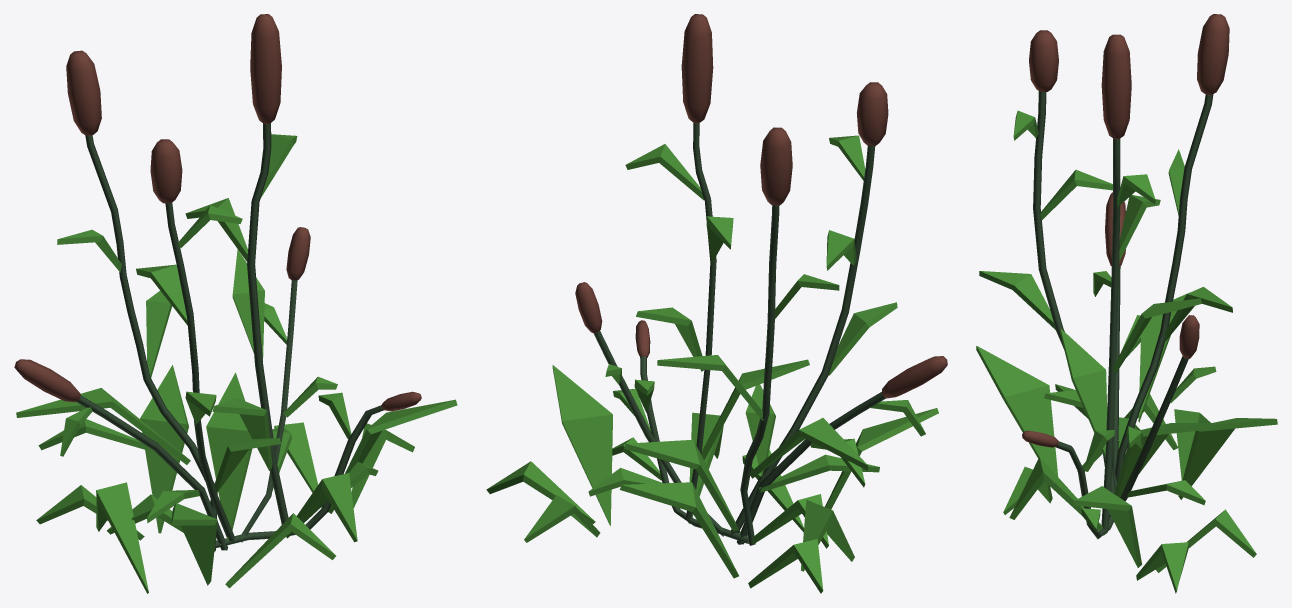
File: s_reed.fbx
3 views of the same model, side by side, from view 1: azimuth 30°, elevation 25°; view 2: azimuth 150°, elevation 25°; view 3: azimuth 270°, elevation 25° (orthographic). The views are drawn at different scales.
Parts seen in each view (by area): view 1: s_reed_greenery_full, s_reed_greenery_empty, s_reed_wire; view 2: s_reed_greenery_full, s_reed_greenery_empty, s_reed_wire; view 3: s_reed_greenery_full, s_reed_greenery_empty, s_reed_wire.
Boxes of the visible parts, x1=… form: s_reed_greenery_full: x1=14, y1=14, x2=421, y2=542; s_reed_greenery_empty: x1=36, y1=365, x2=457, y2=593; s_reed_wire: x1=76, y1=123, x2=384, y2=551; s_reed_greenery_full: x1=575, y1=14, x2=947, y2=548; s_reed_greenery_empty: x1=486, y1=365, x2=938, y2=593; s_reed_wire: x1=593, y1=122, x2=885, y2=545; s_reed_greenery_full: x1=979, y1=14, x2=1232, y2=535; s_reed_greenery_empty: x1=976, y1=346, x2=1277, y2=593; s_reed_wire: x1=1033, y1=91, x2=1213, y2=539.
Size of the model in its own units: 243 by 155 by 286.
